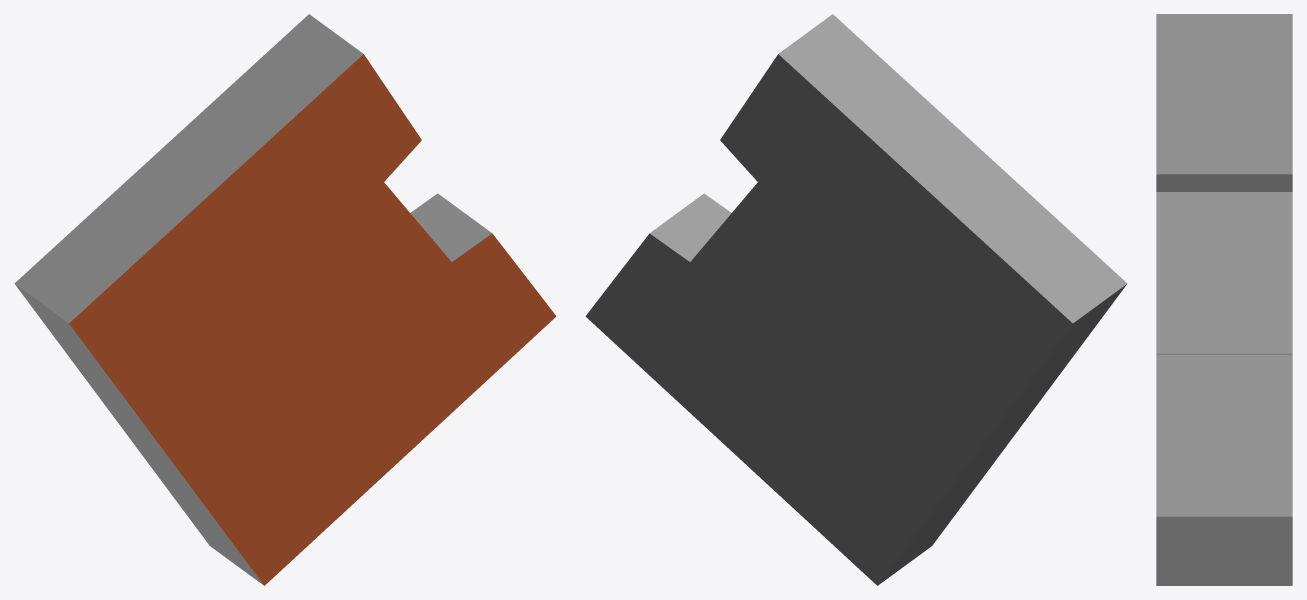
File: construction_3589_assumed_A_Casa_h6m.obj
3 views of the same model, side by side, from view 1: azimuth 30°, elevation 25°; view 2: azimuth 150°, elevation 25°; view 3: azimuth 270°, elevation 25° (orthographic). The views are drawn at different scales.
Parts seen in each view (by area): view 1: construction_3589_assumed_A_Casa; view 2: construction_3589_assumed_A_Casa; view 3: construction_3589_assumed_A_Casa.
Boxes of the visible parts, box(x1,y1,x2,y2) form: construction_3589_assumed_A_Casa: box(14, 14, 556, 585); construction_3589_assumed_A_Casa: box(585, 14, 1127, 585); construction_3589_assumed_A_Casa: box(1156, 14, 1292, 585).
Bounding box in the file's own units: 30.91 × 30.76 × 6.
